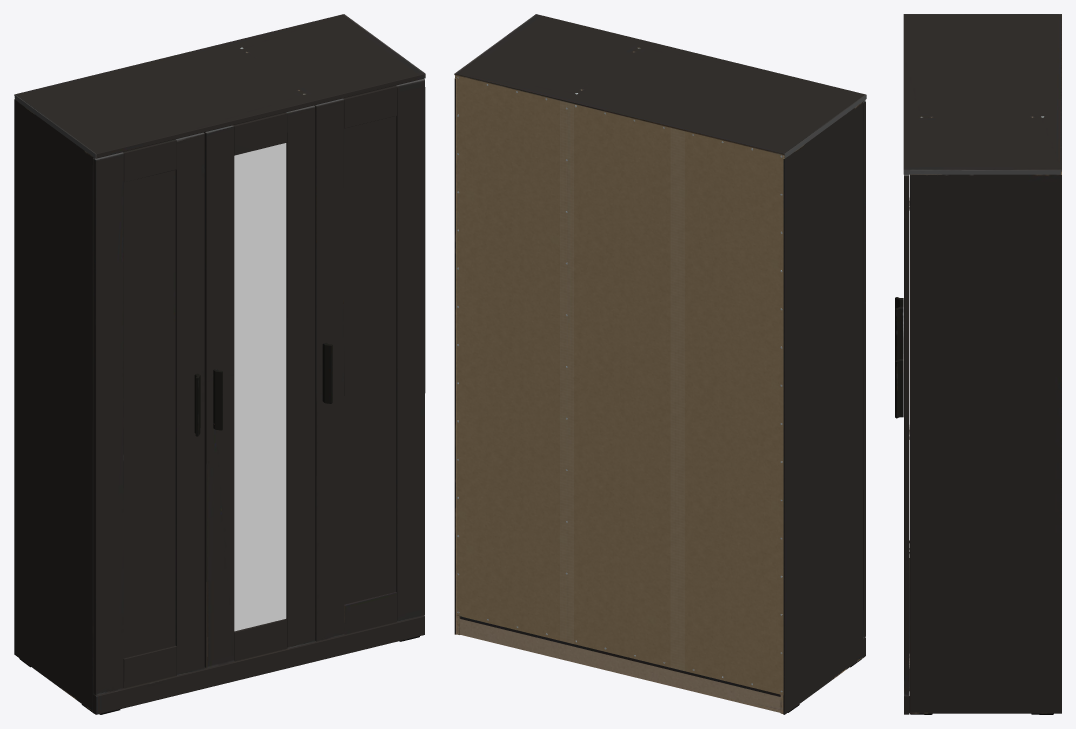
File: brimnes_wardrobe_with_3_doors_black.glb
The picture shows the model from 3 angles, left to right: view 1: azimuth 30°, elevation 25°; view 2: azimuth 150°, elevation 25°; view 3: azimuth 270°, elevation 25°; orthographic projection. The views are drawn at different scales.
Parts seen in each view (by area): view 1: 1, 2; view 2: 1; view 3: 1.
Part boxes in pixels (x1,y1,x2,y2): 1: (14,14,425,714); 2: (234,143,286,631); 1: (454,14,866,714); 1: (895,14,1061,714).
Bounding box in the file's own units: 1.17 × 1.91 × 0.5287.
3 materials, 3 textured.
